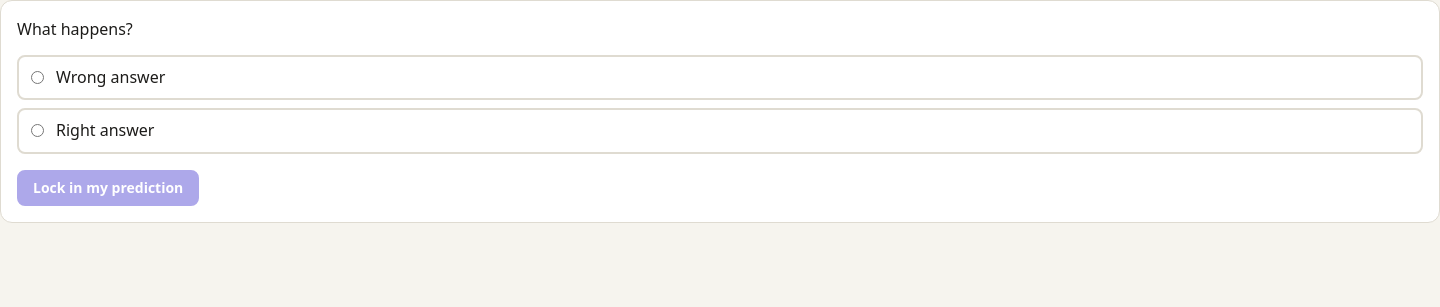
it: Predict › explains the specific misconception and allows a retry
The width and height of the screenshot is (1440, 307).
Click the radio button labelled "Wrong answer" at (38, 77), box 31,71 -> 44,84
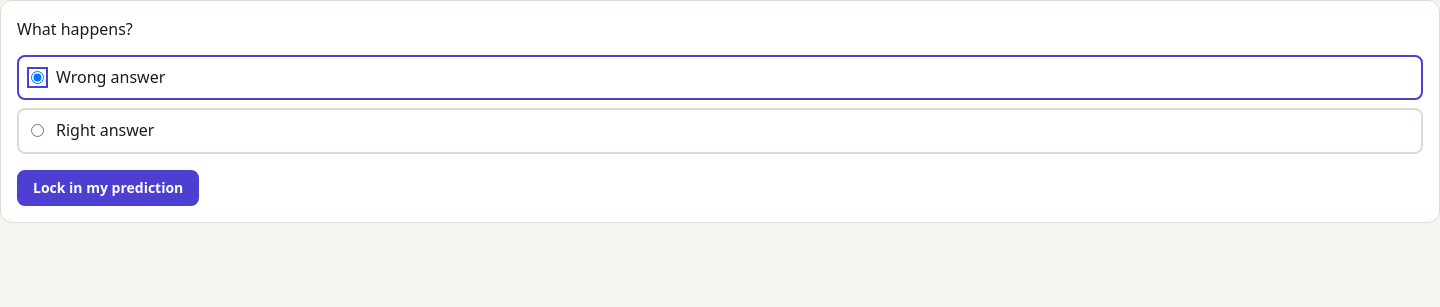
Click the button "Lock in my prediction" at (108, 188), box 17,170 -> 199,206
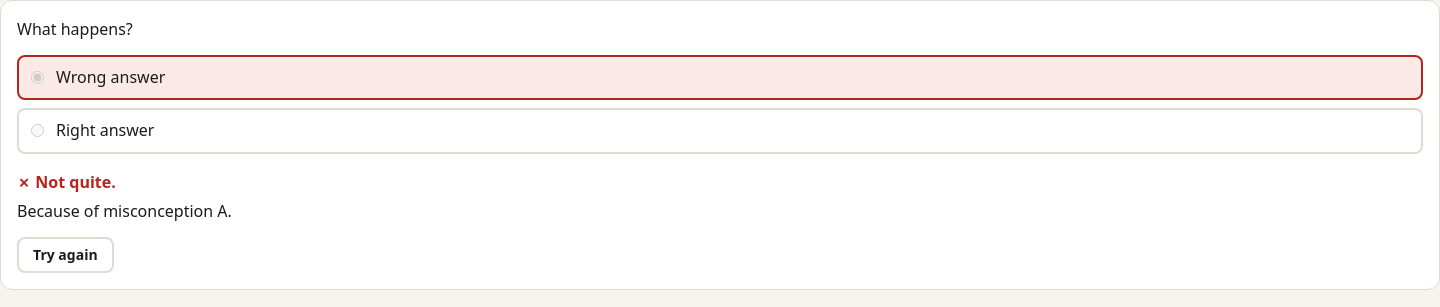
Expected: the text "✗ Not quite." is shown, 17,171 -> 116,193
Expected: the text "Because of misconception A." is shown, 17,200 -> 232,222
Click the button "Try again" at (65, 255), box 17,237 -> 114,273
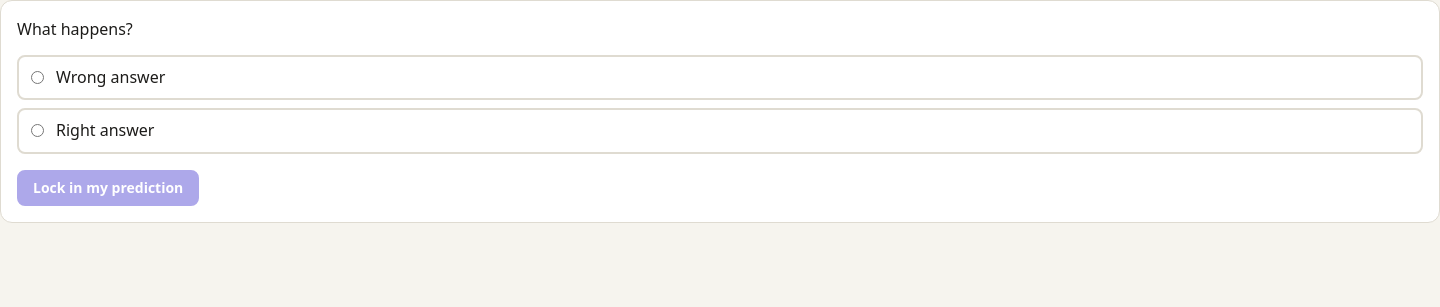
Expected: the radio button labelled "Wrong answer" is not checked, 31,71 -> 44,84
Expected: the text "misconception A" is gone
